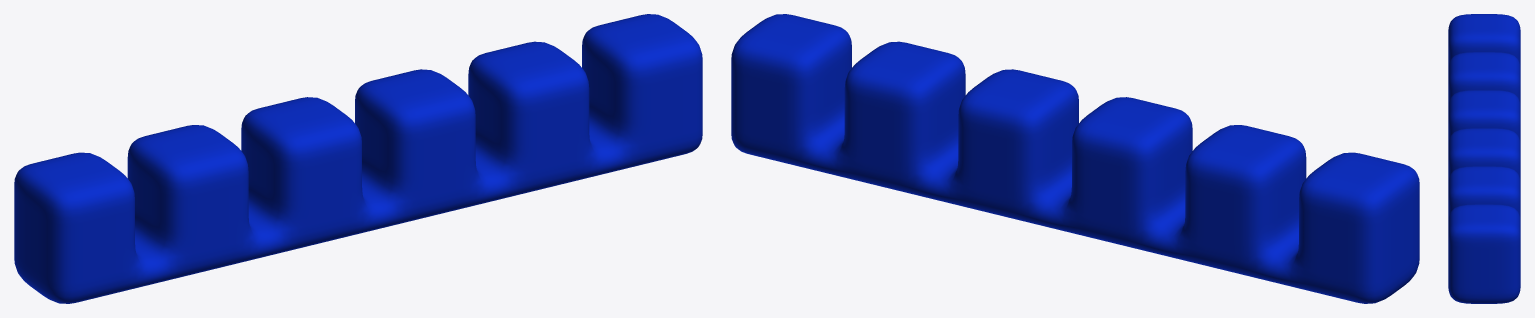
Rendered from finger.obj.
The picture shows the model from 3 angles, left to right: view 1: azimuth 30°, elevation 25°; view 2: azimuth 150°, elevation 25°; view 3: azimuth 270°, elevation 25°; orthographic projection. The views are drawn at different scales.
Parts seen in each view (by area): view 1: Grid.001_Grid.003; view 2: Grid.001_Grid.003; view 3: Grid.001_Grid.003.
Boxes of the visible parts, box(x1,y1,x2,y2) form: Grid.001_Grid.003: box(14, 14, 702, 303); Grid.001_Grid.003: box(731, 14, 1419, 303); Grid.001_Grid.003: box(1448, 14, 1520, 303).
Size of the model in its own units: 1.05 by 0.1766 by 0.1464.
